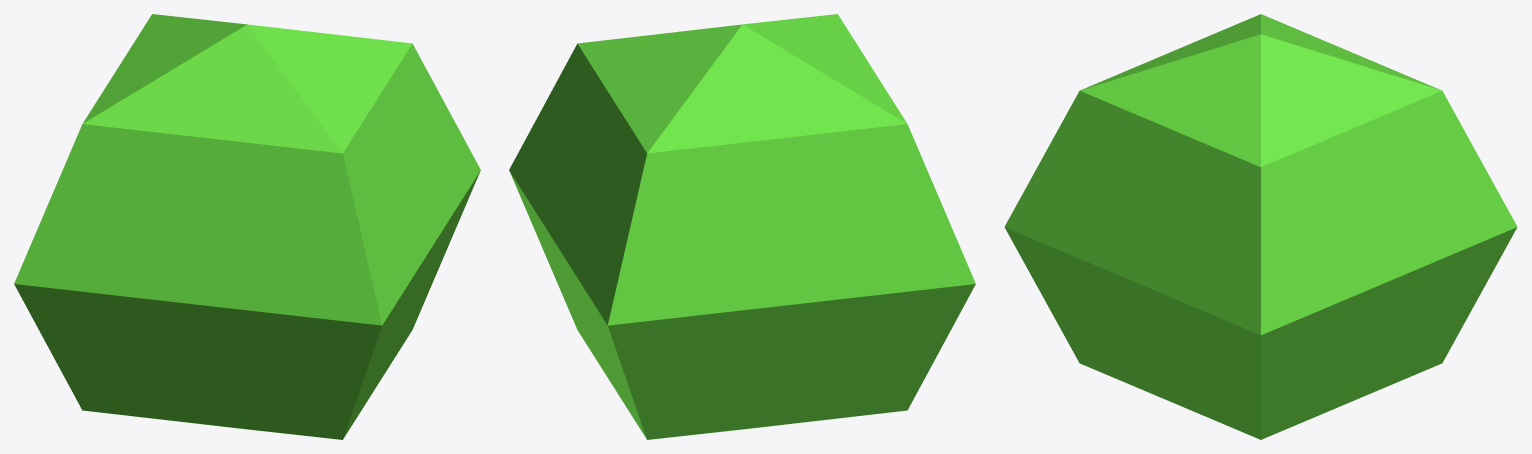
Rendered from SpereLeaves.dae.
The picture shows the model from 3 angles, left to right: view 1: azimuth 30°, elevation 25°; view 2: azimuth 150°, elevation 25°; view 3: azimuth 270°, elevation 25°; orthographic projection. The views are drawn at different scales.
Parts seen in each view (by area): view 1: SphereLeaves; view 2: SphereLeaves; view 3: SphereLeaves.
Boxes of the visible parts, x1,y1,x2,y2 form: SphereLeaves: [14, 14, 480, 439]; SphereLeaves: [509, 14, 975, 439]; SphereLeaves: [1004, 14, 1517, 439].
Size of the model in its own units: 8.13 by 8.13 by 6.74.
